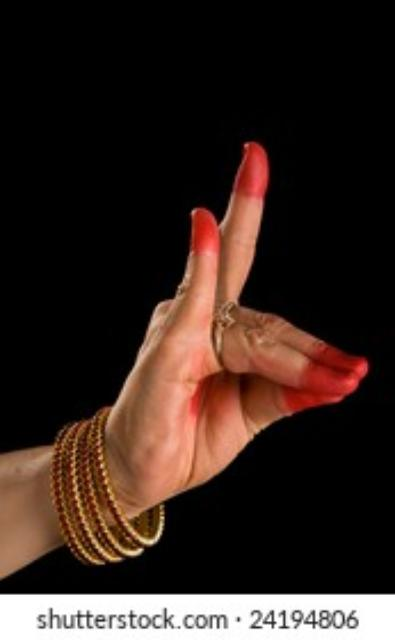sinhamukh: (48, 144, 370, 565)
